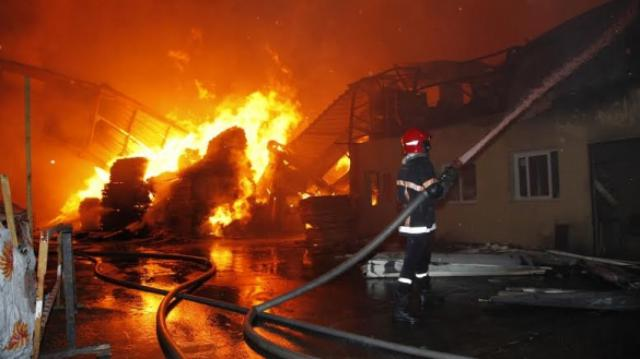fire: (130, 131, 214, 172), (210, 99, 294, 138), (234, 143, 264, 182), (210, 204, 243, 234), (70, 174, 106, 201)
smoke: (9, 0, 345, 98), (346, 4, 496, 54), (4, 100, 66, 201), (66, 100, 98, 172), (497, 0, 530, 41), (530, 1, 566, 34), (566, 0, 582, 16)
